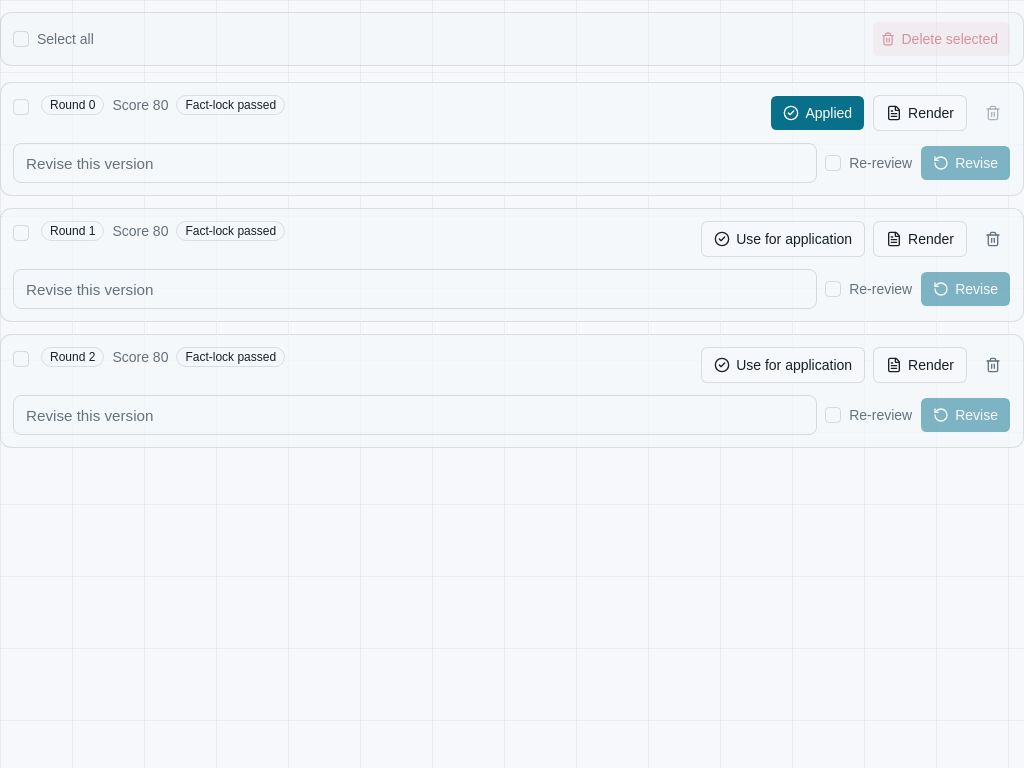
it: ResumeVersionsTab › select-all skips the applied version
What coordinates should you click on to do the following:
click the checkbox named "Select all deletable versions"
I would click on:
 (21, 39)
Its box is left=13, top=31, right=29, bottom=47.
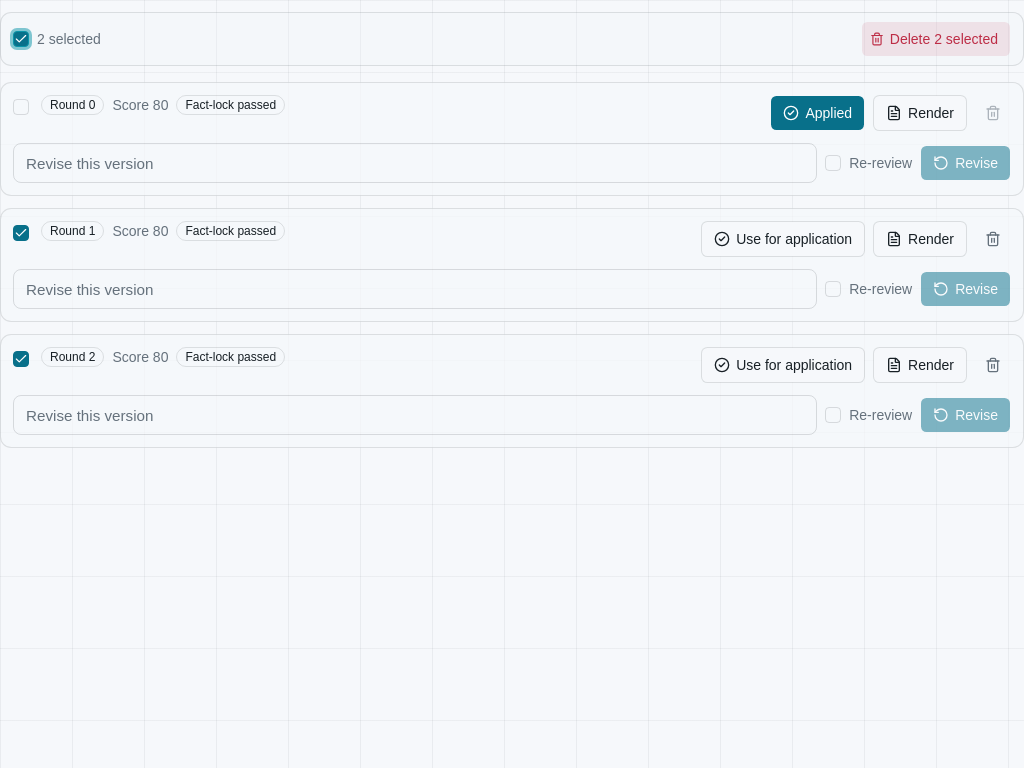
Expected: the checkbox "2 selected" is shown, left=13, top=29, right=101, bottom=49
